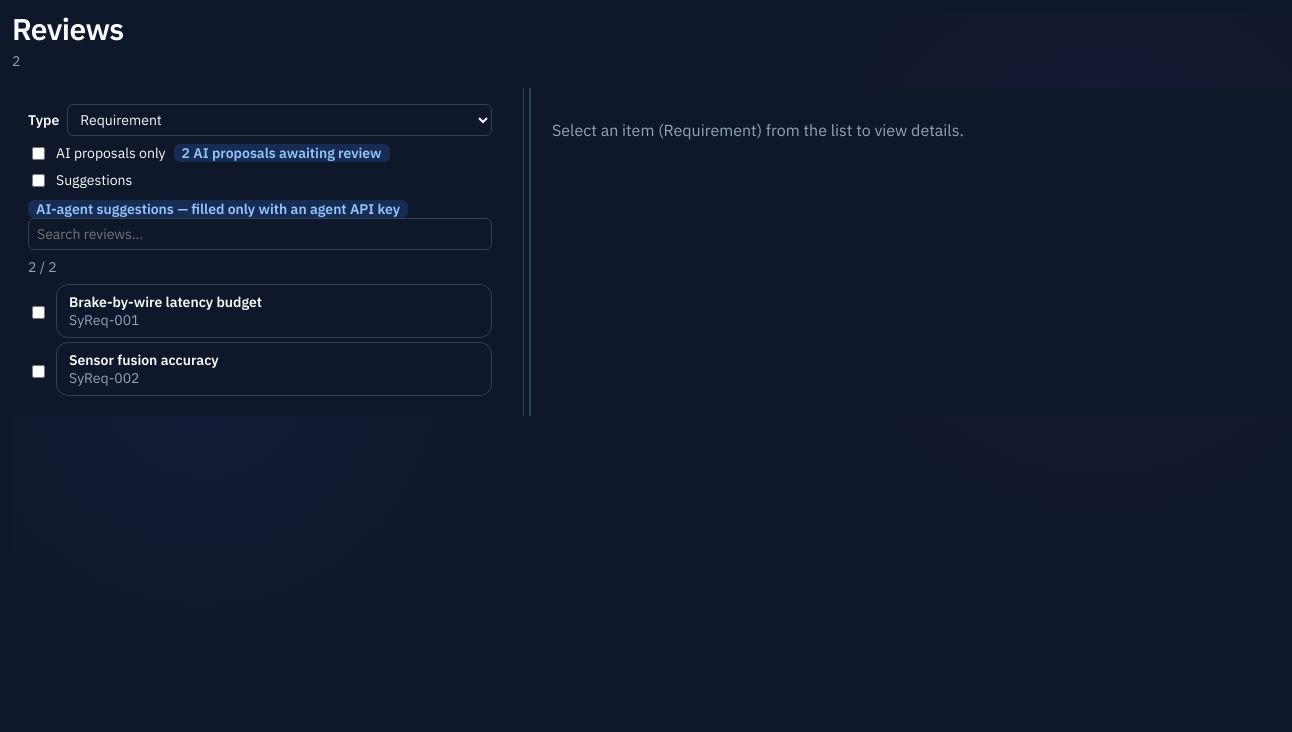
Test case: ReviewsView (REQ-144 smoke tests) › [REQ-144] blocks Approve client-side when change_reason is required but empty
The image size is (1292, 732).
Expected: the text "Brake-by-wire latency budget" is shown, [69,292,262,310]
Click the button with test id "review-list-item-req-001".
click(166, 302)  # box [56,284,492,338]
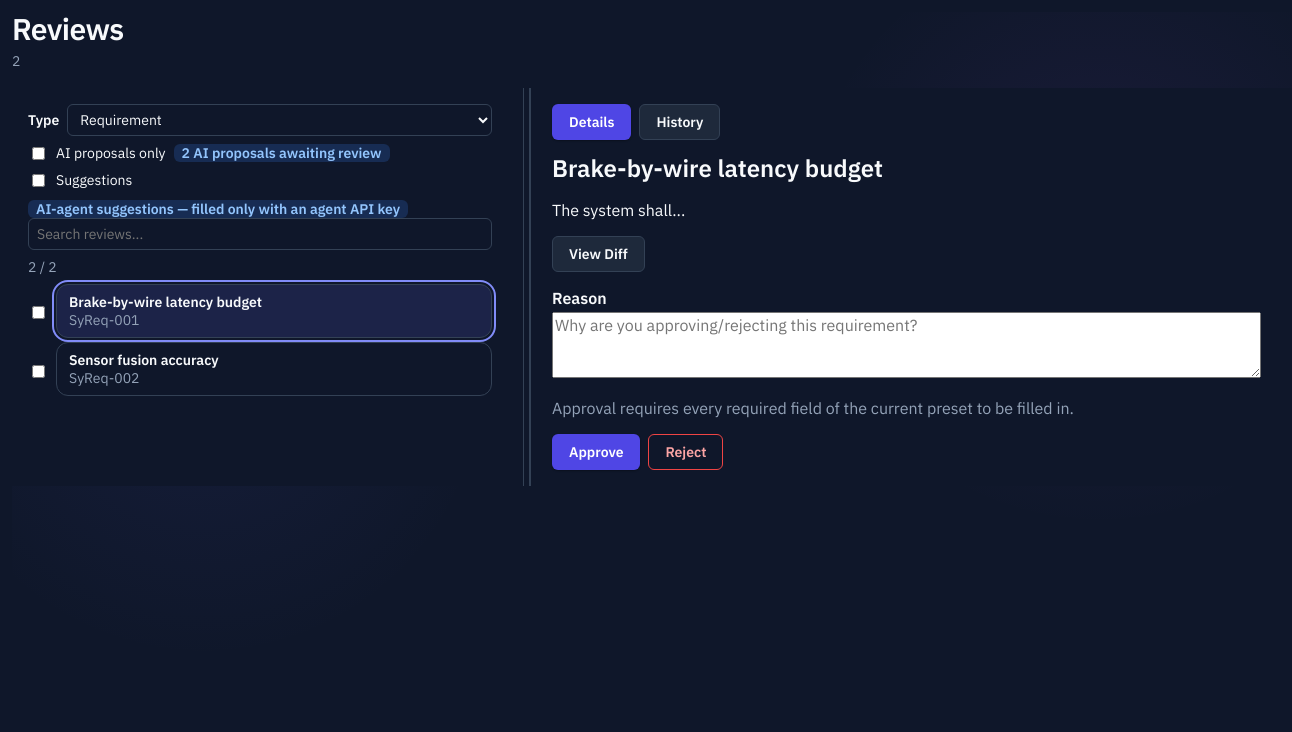
Result: the button with test id "review-approve-btn" is enabled
Click the button with test id "review-approve-btn".
click(596, 452)  # box [552,434,640,470]
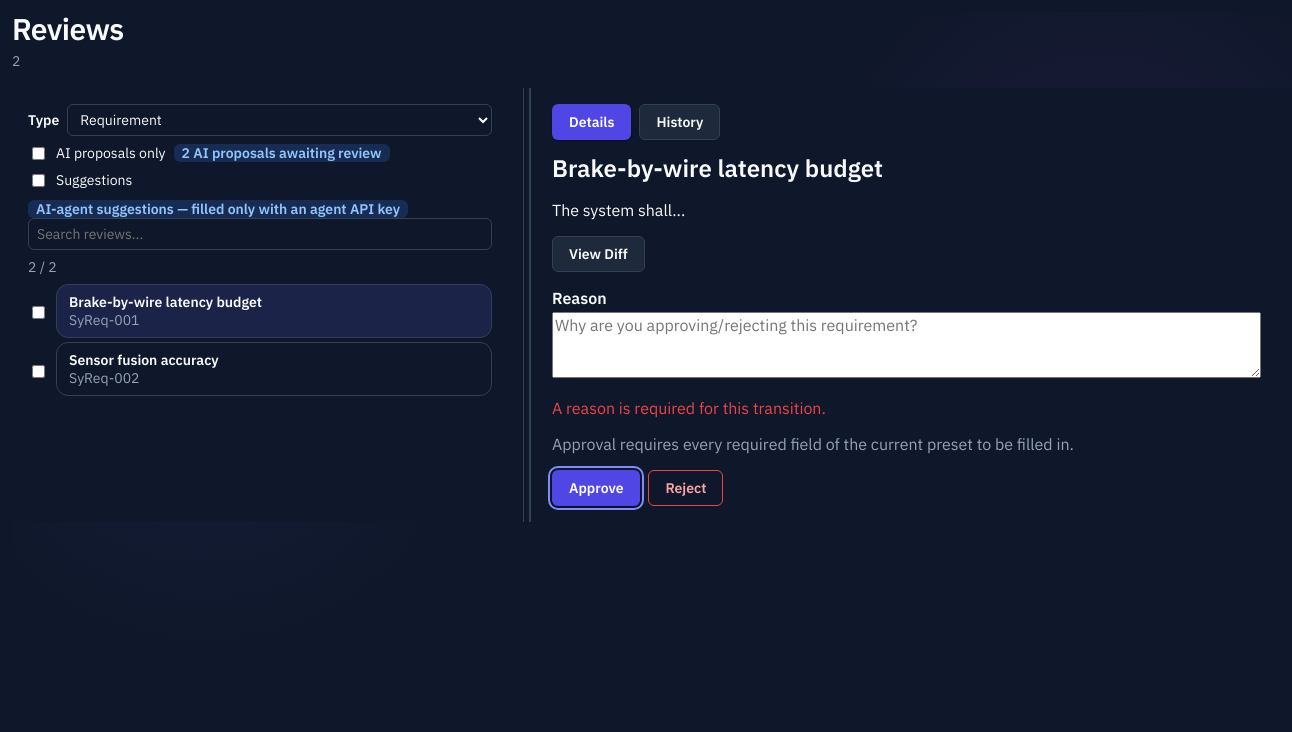
Result: the message "A reason is required for this transition." is shown at [552,398,826,418]
